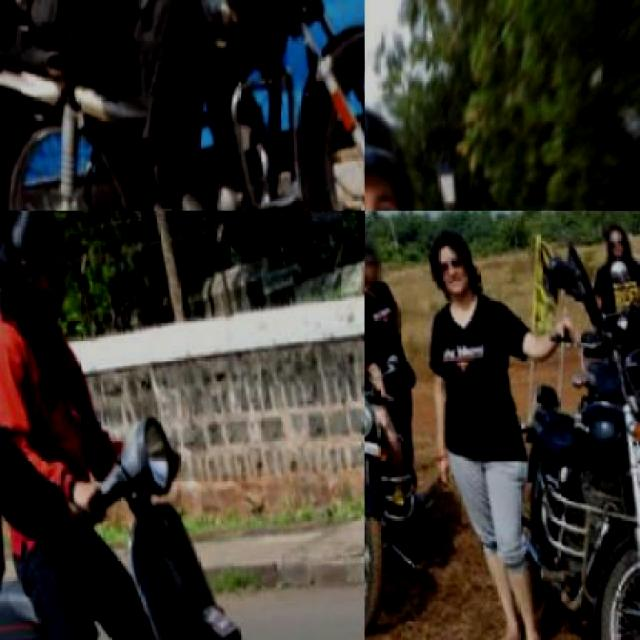With Helmet: (364, 94, 436, 209)
Without Helmet: (0, 211, 82, 326), (418, 226, 480, 308), (584, 211, 636, 274), (365, 240, 383, 291)
